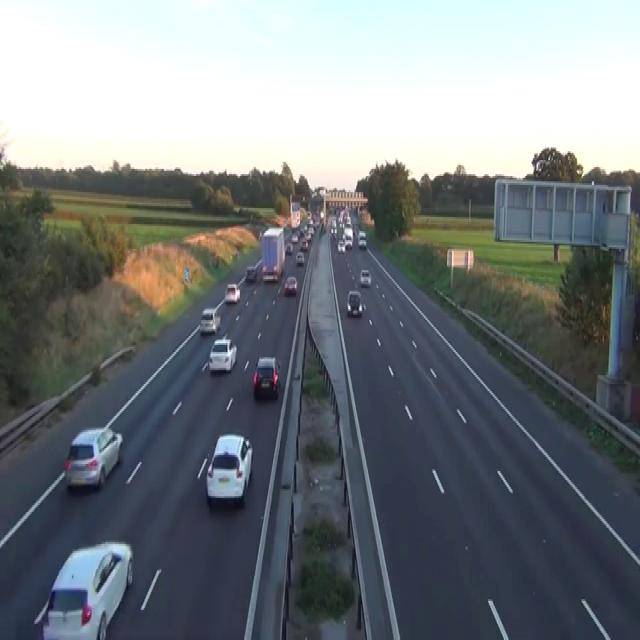Car: (33, 540, 133, 638), (63, 425, 123, 489), (205, 432, 253, 505), (252, 356, 281, 398), (208, 338, 237, 372), (199, 308, 220, 334), (346, 290, 362, 316), (224, 283, 240, 304), (283, 276, 297, 295), (262, 265, 278, 281), (359, 268, 371, 286), (245, 265, 256, 281), (358, 229, 366, 249), (296, 251, 304, 265), (337, 238, 345, 252), (344, 226, 353, 238), (344, 236, 352, 249), (300, 238, 308, 251), (285, 242, 293, 254), (291, 231, 298, 242), (344, 215, 351, 226), (330, 226, 336, 238), (305, 231, 311, 242), (232, 249, 239, 258), (308, 226, 314, 236), (258, 229, 263, 240), (320, 210, 324, 218)
Truck: (260, 226, 285, 281), (290, 201, 300, 227)
